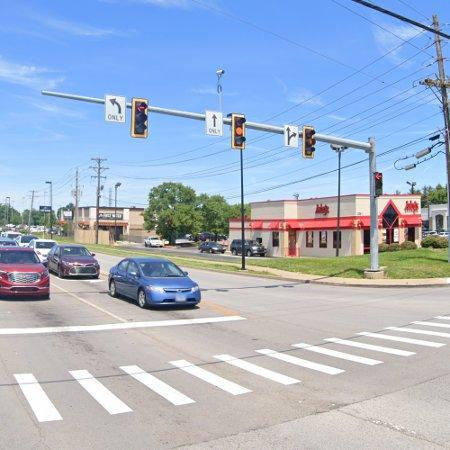crosswalks: (13, 314, 450, 426)
